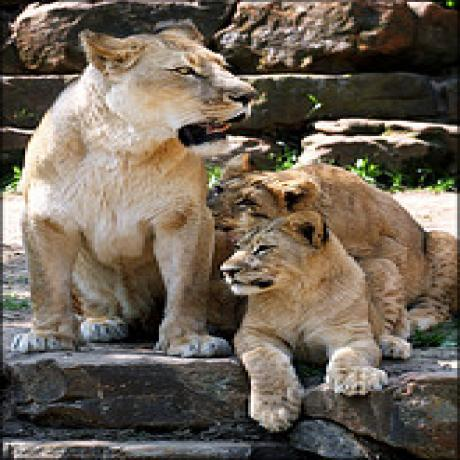Lion: (18, 23, 257, 356), (223, 212, 390, 435), (206, 154, 404, 234)
